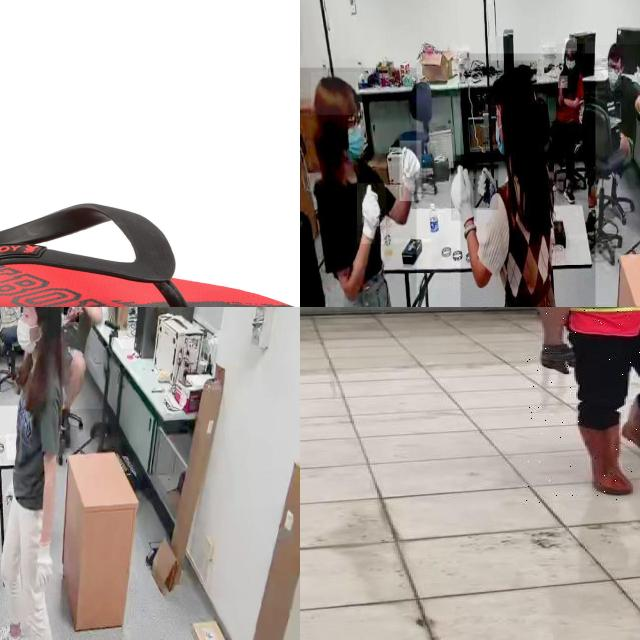Sandals: (0, 202, 300, 307)
boots: (574, 424, 635, 495), (624, 394, 640, 462)
face_mask: (11, 307, 38, 355), (346, 116, 369, 160), (491, 116, 512, 156), (562, 48, 576, 68), (608, 65, 620, 85)
hand_glove: (29, 532, 61, 596), (357, 183, 386, 244), (451, 161, 477, 221), (400, 141, 422, 201), (474, 164, 498, 210)
hand_noglove: (64, 307, 80, 323), (558, 76, 568, 89), (74, 307, 87, 315)
head_nohelmet: (311, 72, 363, 116), (490, 60, 538, 106), (606, 42, 624, 59), (565, 38, 577, 52)
person: (460, 53, 595, 307), (300, 67, 417, 307), (524, 307, 640, 505), (0, 307, 65, 640), (595, 44, 640, 190), (549, 44, 585, 200), (61, 307, 104, 410)
